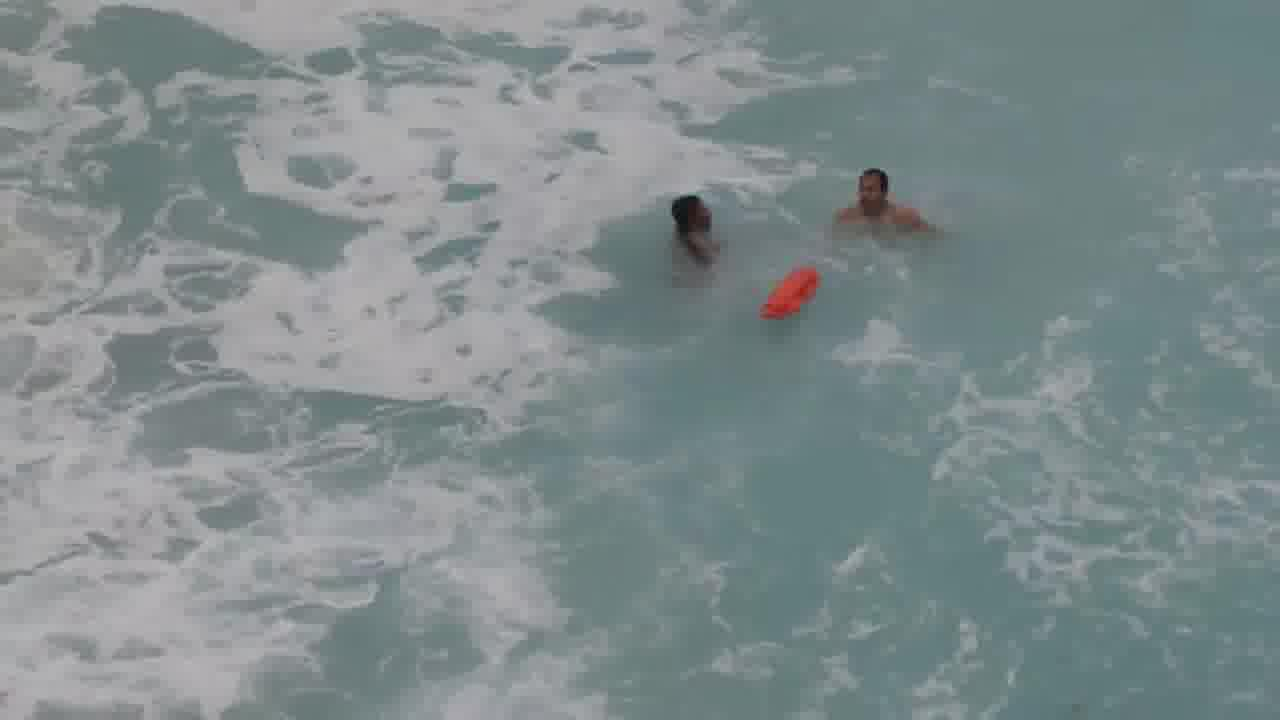human: (823, 160, 950, 248), (651, 183, 732, 286)
